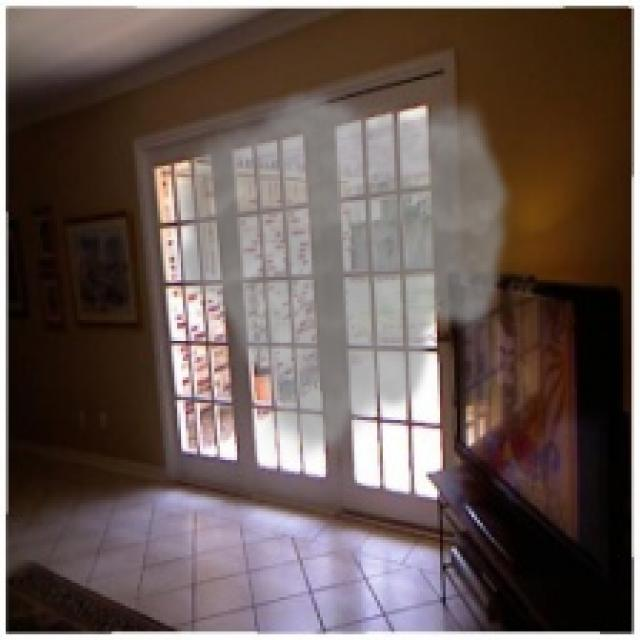smoke: (163, 88, 517, 463)
